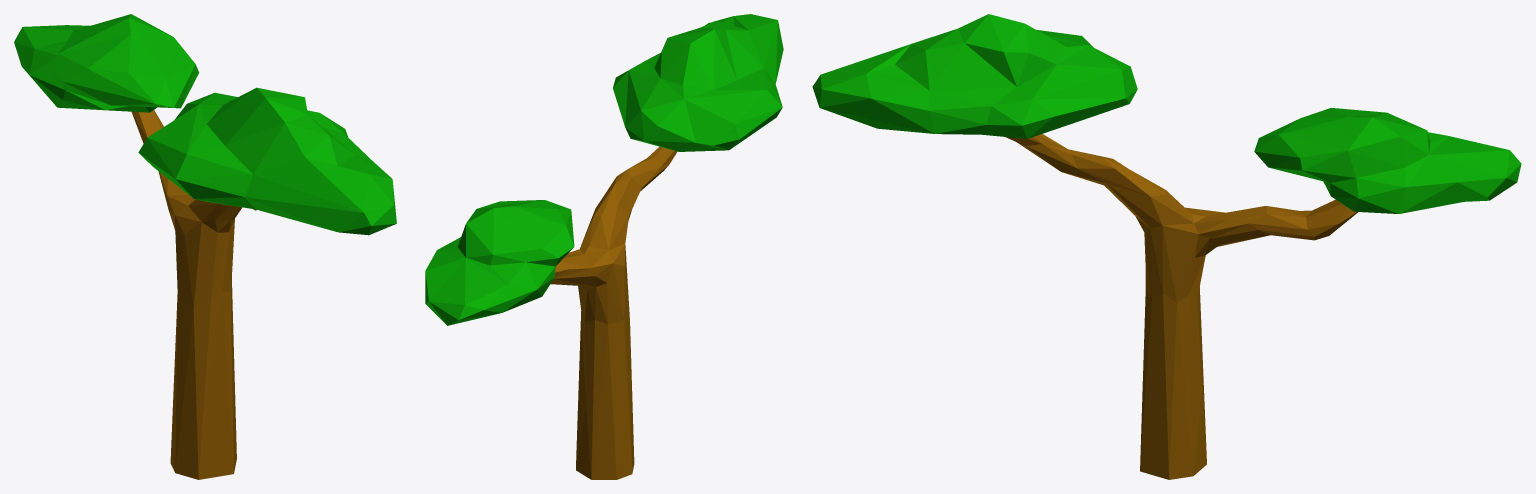
The model's file is acacia_LP 1.fbx.
3 renders of one model, left to right at view 1: azimuth 30°, elevation 25°; view 2: azimuth 150°, elevation 25°; view 3: azimuth 270°, elevation 25°, orthographic. The views are drawn at different scales.
Visible parts, largest first — view 1: Acacia; view 2: Acacia; view 3: Acacia.
Boxes of the visible parts, left/top/right/bottom form: Acacia: left=14, top=14, right=396, bottom=479; Acacia: left=425, top=14, right=783, bottom=479; Acacia: left=812, top=14, right=1521, bottom=479.
Size of the model in its own units: 130 by 283 by 417.
